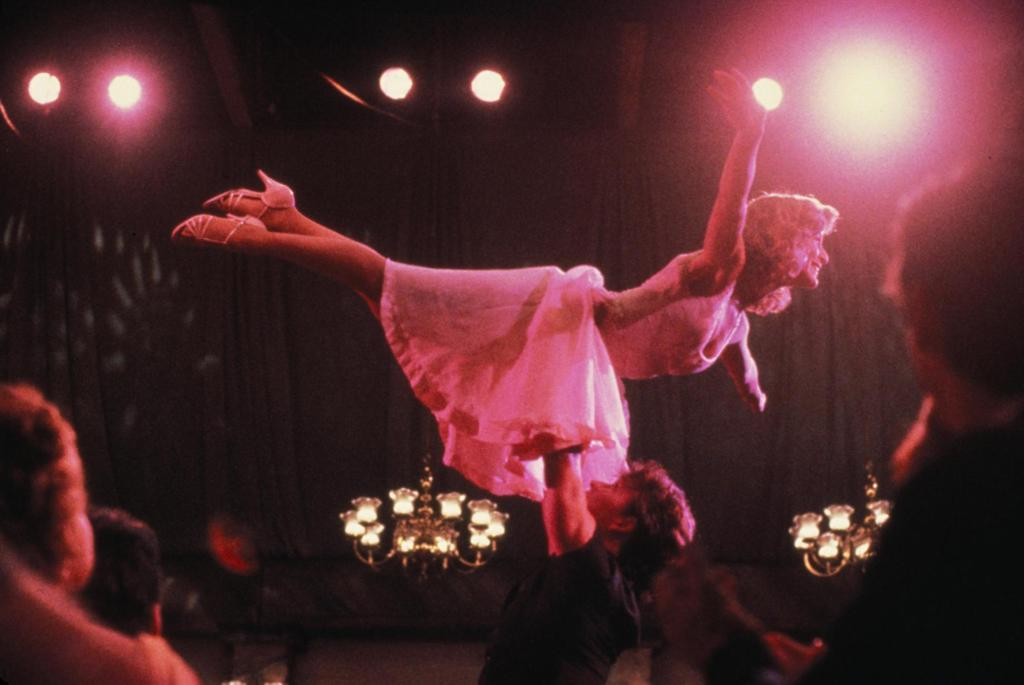face: (789, 220, 830, 291), (584, 473, 638, 518)
